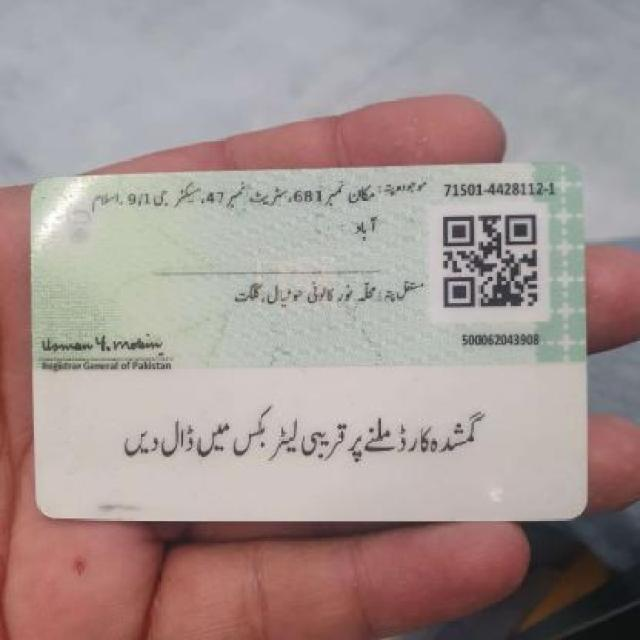Back: (21, 162, 598, 529)
